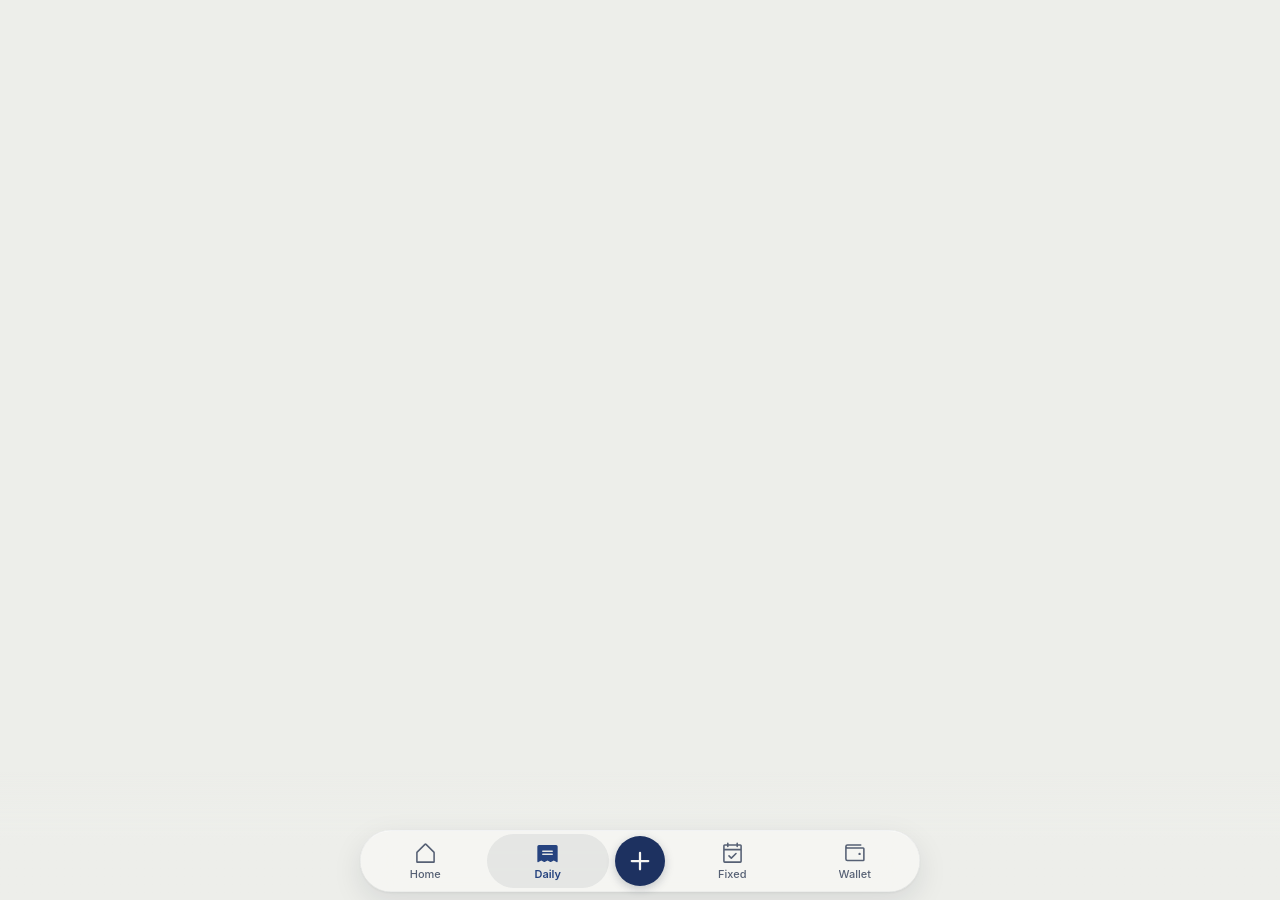
Test: TabBar (DESIGN.md §9.1) › starts the new expense in the category on screen (docs/SPEC.md §3.4) › in Daily's chip on Daily's root
The width and height of the screenshot is (1280, 900).
Click the button with test id "tab-add" at [640, 861], box [615, 836, 665, 886]
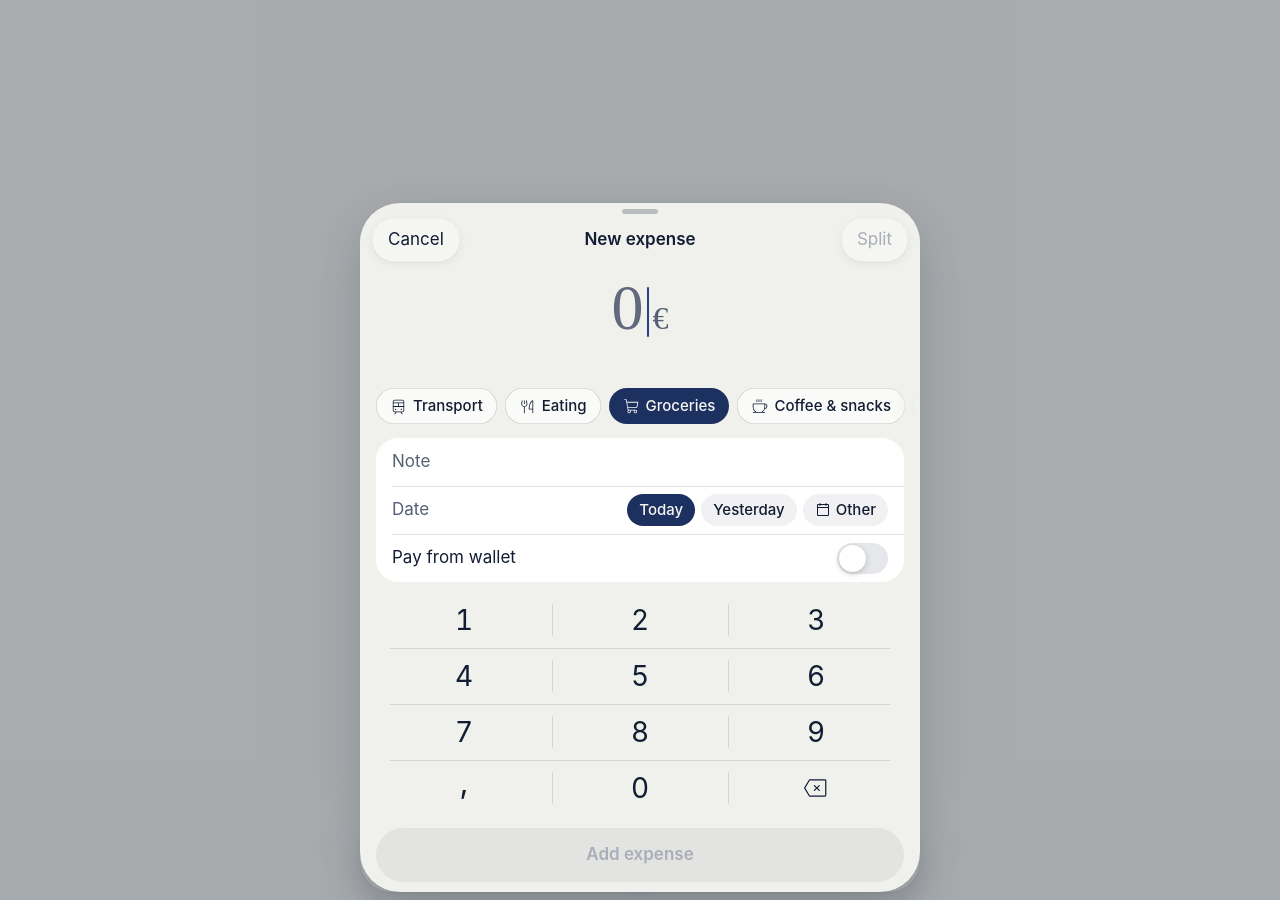
expect the dialog "New expense" is shown: met, box [360, 203, 920, 892]
